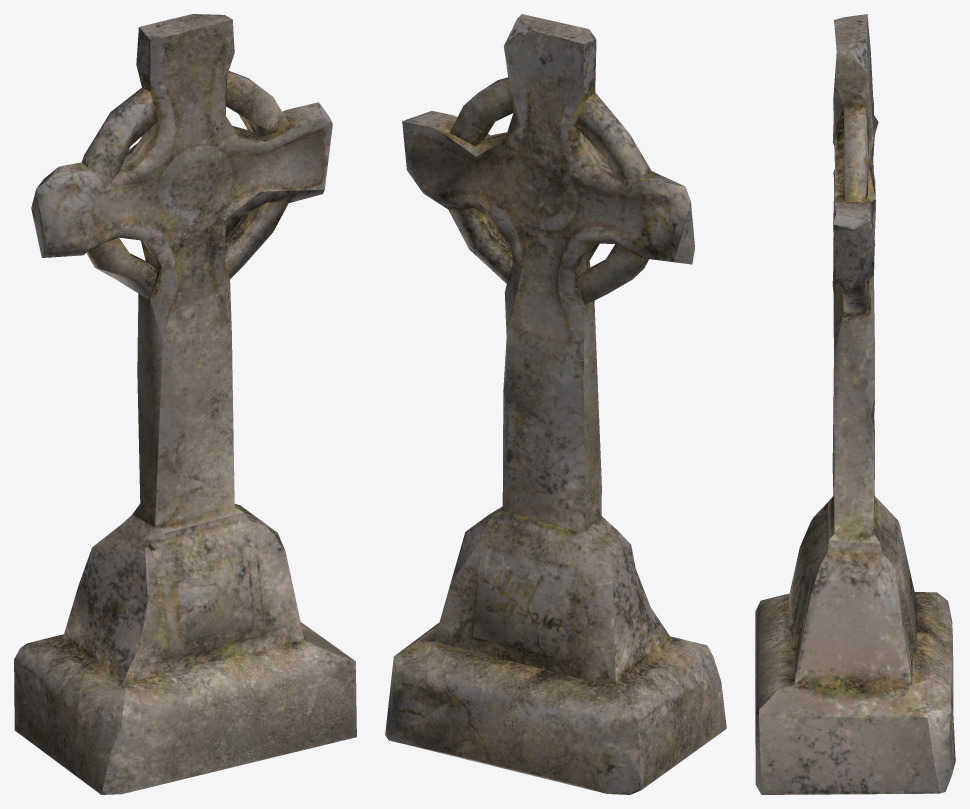
Rendered from SM_TombStone06.FBX.
The picture shows the model from 3 angles, left to right: view 1: azimuth 30°, elevation 25°; view 2: azimuth 150°, elevation 25°; view 3: azimuth 270°, elevation 25°; orthographic projection.
Visible parts, largest first — view 1: SM_TombStone06; view 2: SM_TombStone06; view 3: SM_TombStone06.
Boxes of the visible parts, x1,y1,x2,y2 form: SM_TombStone06: (14,14,356,794); SM_TombStone06: (385,14,726,794); SM_TombStone06: (755,14,955,794).
Bounding box in the file's own units: 110 × 66.87 × 259.
